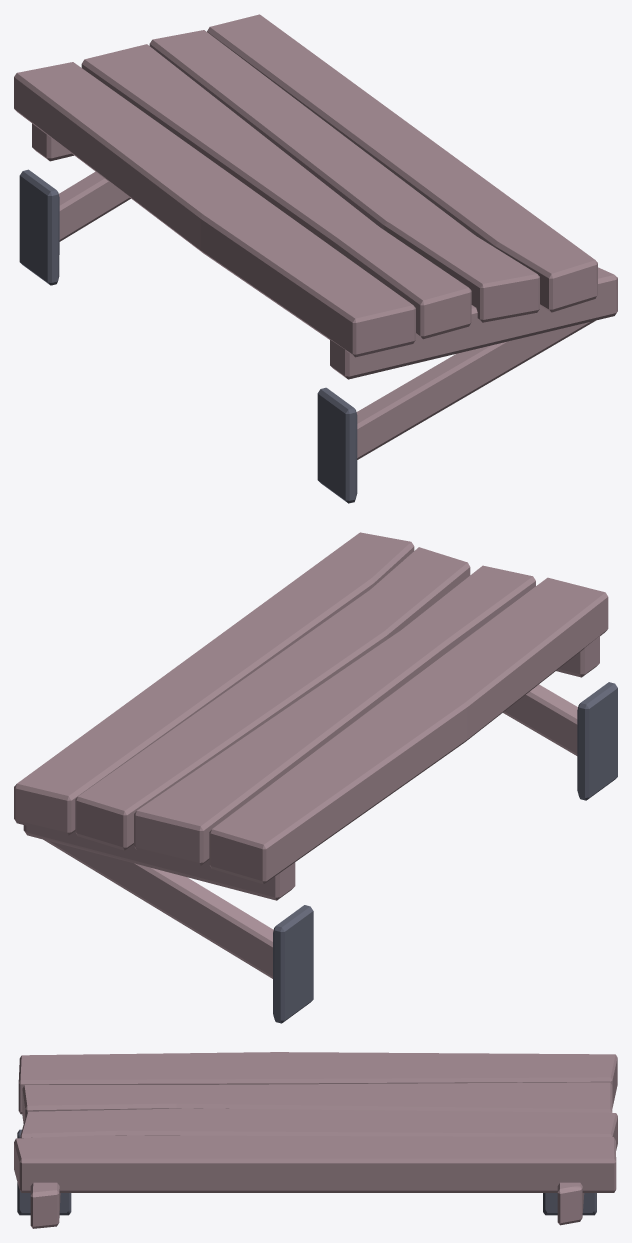
Rendered from short_shelf.fbx.
3 views of the same model, one above another, from view 1: azimuth 30°, elevation 25°; view 2: azimuth 150°, elevation 25°; view 3: azimuth 270°, elevation 25° (orthographic). The views are drawn at different scales.
Visible parts, largest first — view 1: short_shelf; view 2: short_shelf; view 3: short_shelf.
Part boxes in pixels (bbox=[...]): short_shelf: bbox=[14, 14, 617, 503]; short_shelf: bbox=[14, 532, 617, 1023]; short_shelf: bbox=[14, 1052, 617, 1228].
Size of the model in its own units: 2.27 by 1.41 by 4.8.
